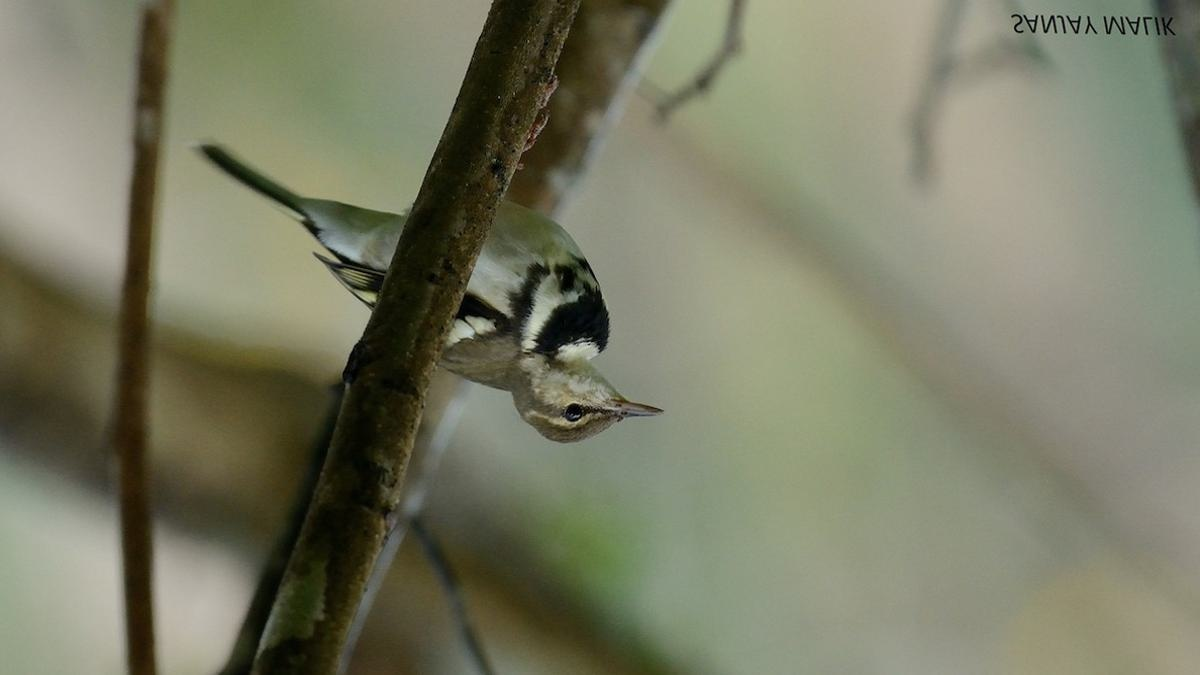wagtail: (198, 120, 678, 447)
